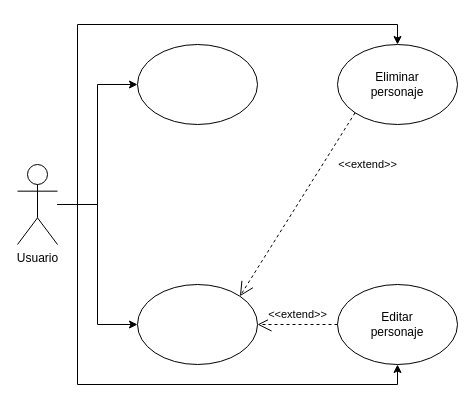
Some shapes in this 475 by 410 pixel diagram are drawn without their labels. Here are the shapes that lost their labels. From the top down, the centre of each, then its label:
the point at 197,84: Crear personaje
the point at 197,324: Visualizar personaje
